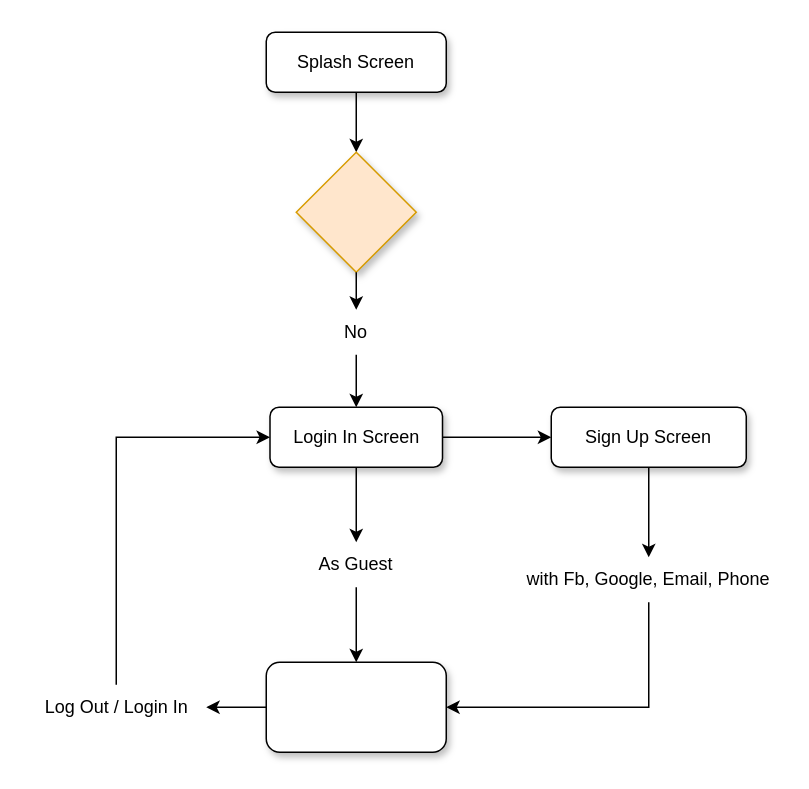
The diagram is 809 pixels wide and 789 high, and some of its shapes have lost their labels. The shapes that lost their labels are listed below. From the top down, each one's centre as x and y in pixels, then its label:
At pixel 357 214: "Is Logged In".
At pixel 357 709: "Home Screen".
